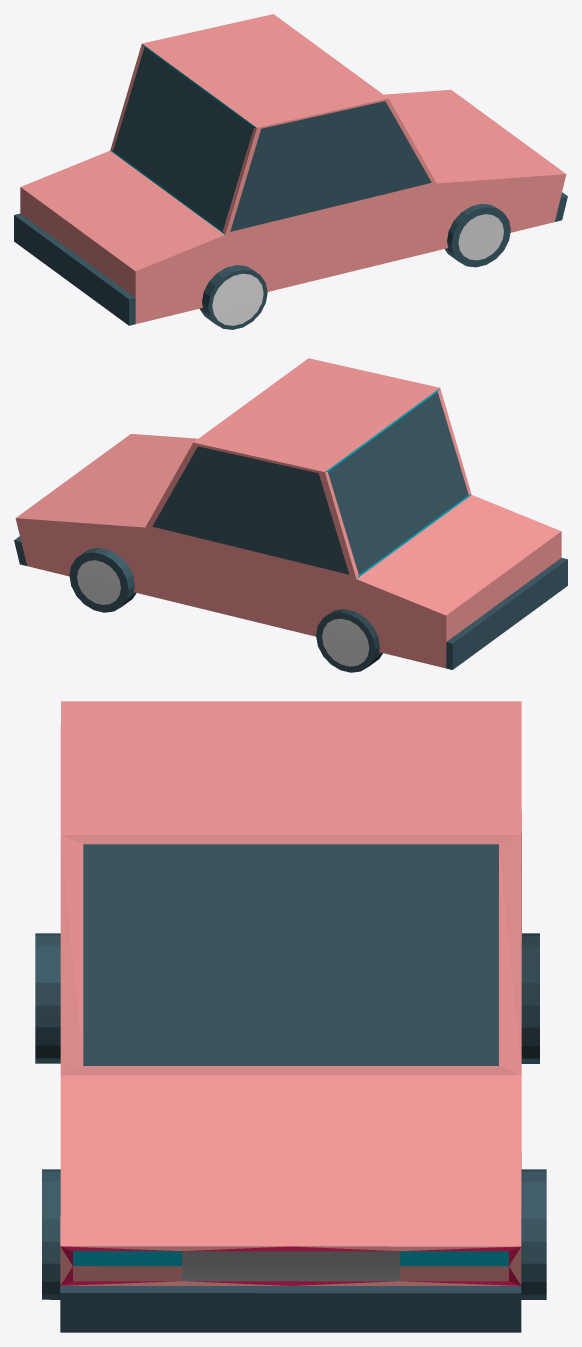
Rendered from car_04_3_world_ap_0_lev1.glb.
The picture shows the model from 3 angles, top to bottom: view 1: azimuth 30°, elevation 25°; view 2: azimuth 150°, elevation 25°; view 3: azimuth 270°, elevation 25°; orthographic projection. The views are drawn at different scales.
Visible parts, largest first — view 1: car_04_3_world_ap_0_lev1; view 2: car_04_3_world_ap_0_lev1; view 3: car_04_3_world_ap_0_lev1.
Boxes of the visible parts, box(x1,y1,x2,y2) form: car_04_3_world_ap_0_lev1: box(14, 14, 567, 329); car_04_3_world_ap_0_lev1: box(14, 358, 567, 672); car_04_3_world_ap_0_lev1: box(35, 701, 546, 1332).
Size of the model in its own units: 1.47 by 0.6093 by 0.7441.
Materials: 1 (1 with a texture image).
